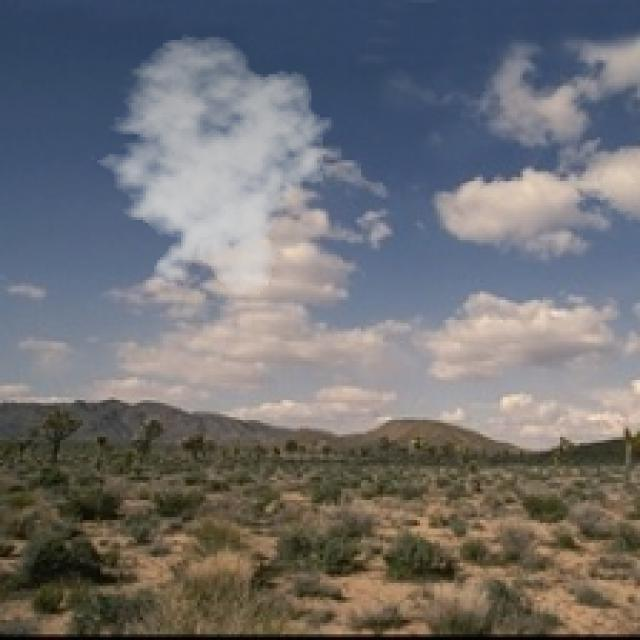Smoke: (86, 34, 340, 297)
